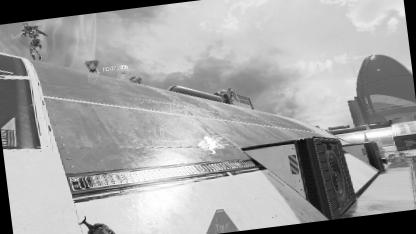Target: (21, 20, 44, 60), (227, 86, 234, 104)
